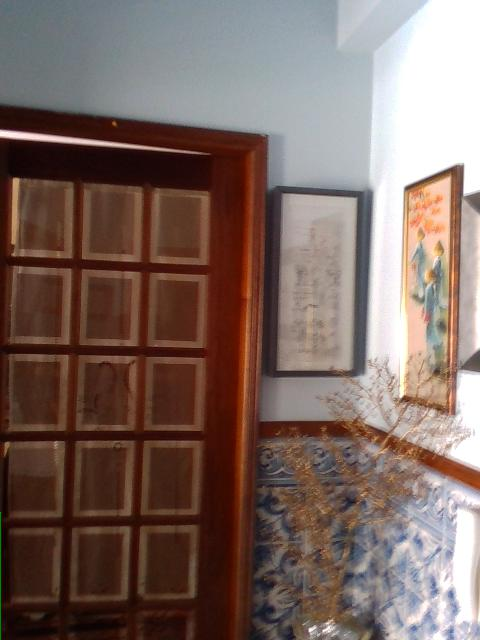door: (0, 99, 270, 639)
